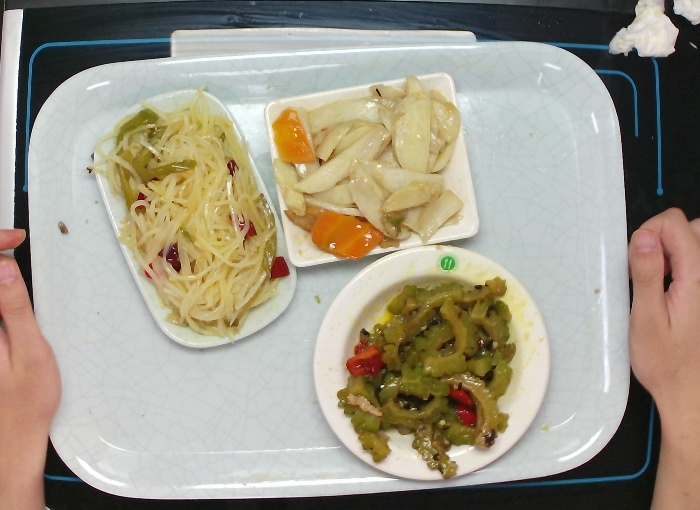WCQzf-Bai_Se_Si_Fang_Die: (262, 72, 483, 274)
WCQzf-Kuan_Bian_Yuan_Die: (312, 243, 554, 485)
WCQzf-Tuo_Yuan_Pan: (92, 86, 300, 349)
